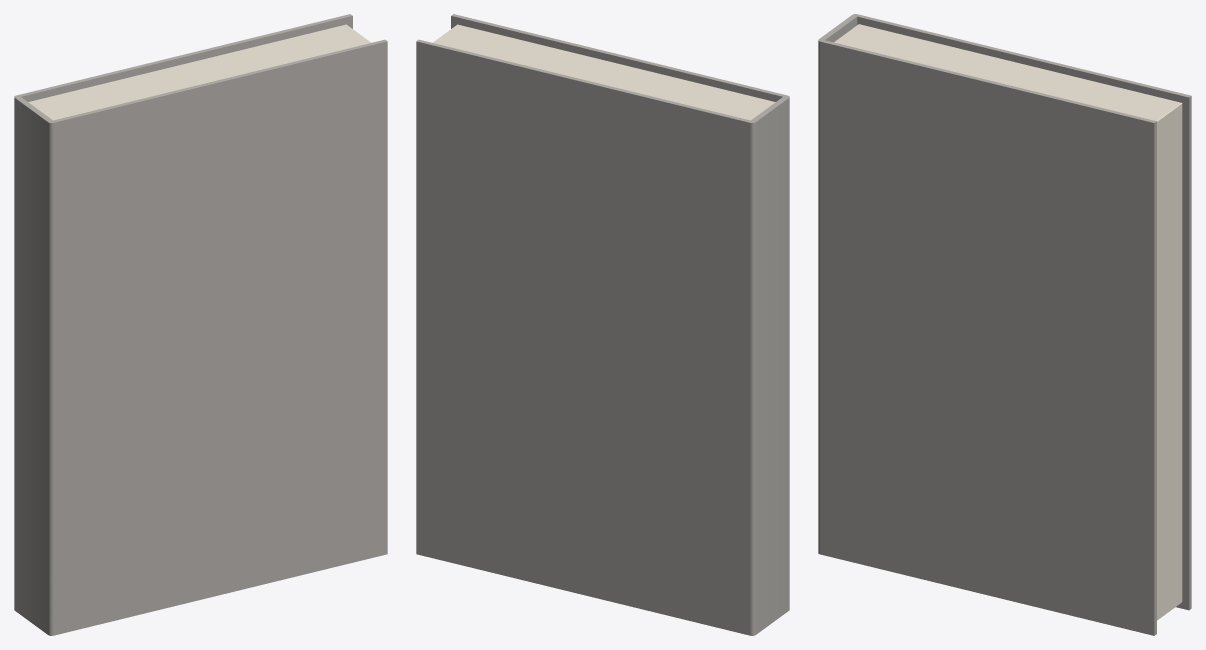
File: hardcover.glb
The picture shows the model from 3 angles, left to right: view 1: azimuth 30°, elevation 25°; view 2: azimuth 150°, elevation 25°; view 3: azimuth 330°, elevation 25°; orthographic projection.
Parts seen in each view (by area): view 1: Front, Spine, Pages, Back; view 2: Back, Spine, Pages, Front; view 3: Front, Pages, Back, Spine.
Part boxes in pixels (box(x1,y1,x2,y2)): Front: box(53, 39, 387, 635); Spine: box(14, 95, 54, 635); Pages: box(28, 24, 371, 120); Back: box(16, 14, 352, 101); Back: box(416, 39, 750, 635); Spine: box(749, 95, 789, 635); Pages: box(432, 24, 775, 120); Front: box(451, 14, 787, 101); Front: box(820, 40, 1156, 635); Pages: box(834, 24, 1182, 620); Back: box(857, 14, 1191, 610); Spine: box(818, 14, 858, 554).
Size of the model in its own units: 0.1584 by 0.23 by 0.0304.
